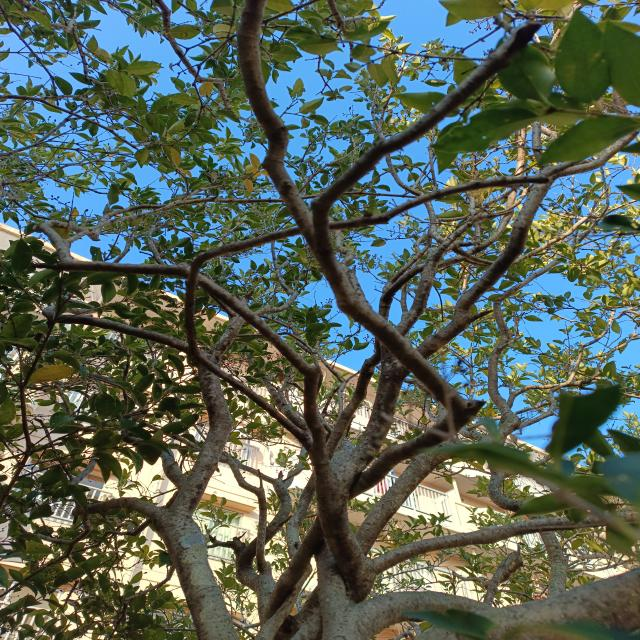Branch: (354, 236, 580, 554), (312, 23, 539, 249), (315, 256, 485, 498), (317, 361, 402, 598), (236, 0, 315, 235), (148, 506, 237, 640), (169, 350, 234, 516), (211, 312, 246, 359)
Twig: (185, 175, 545, 451), (33, 224, 325, 449), (417, 83, 640, 358), (373, 511, 639, 574), (0, 519, 150, 596), (67, 448, 157, 518), (328, 353, 380, 457), (52, 313, 191, 349), (395, 246, 442, 336), (36, 512, 93, 545)
